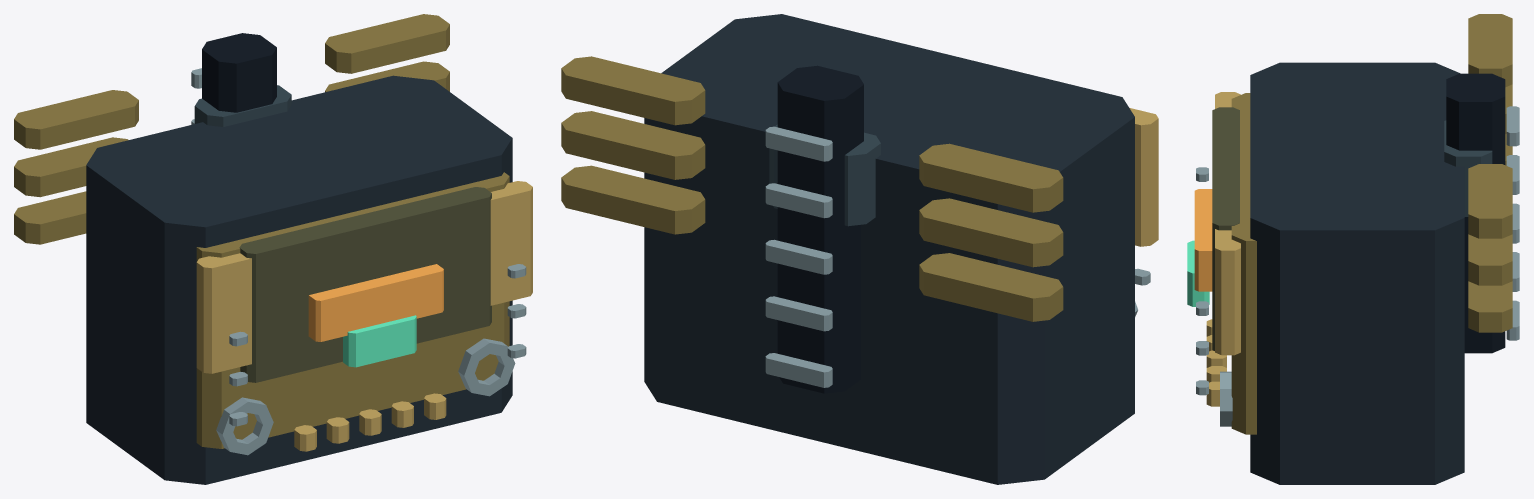
File: enemy_gunner_body.obj
3 views of the same model, side by side, from view 1: azimuth 30°, elevation 25°; view 2: azimuth 150°, elevation 25°; view 3: azimuth 270°, elevation 25° (orthographic). The views are drawn at different scales.
Size of the model in its own units: 1.31 by 0.975 by 0.8985.
